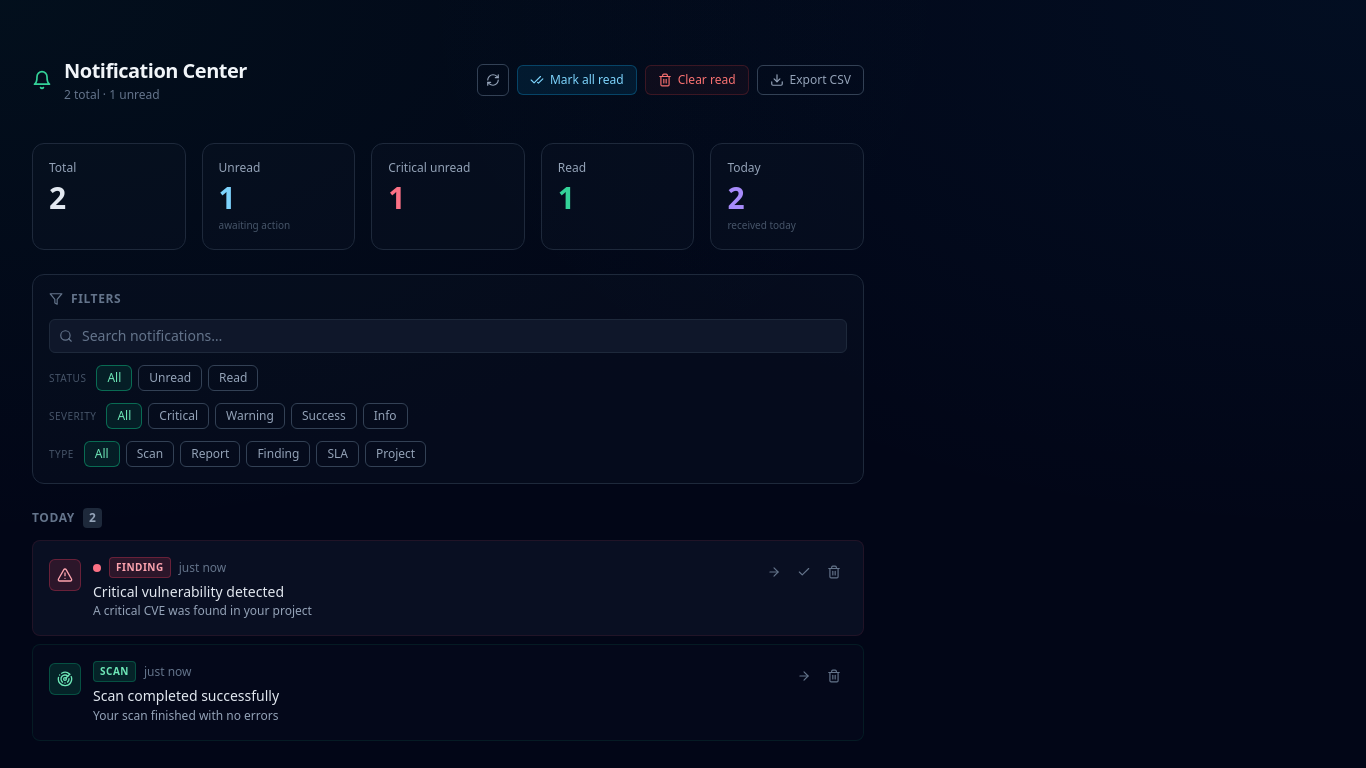
Test case: Notifications — severity filter › "success" severity filter hides non-success notifications
expect the text "Critical vulnerability detected" is shown: met, box x1=93 y1=582 x2=284 y2=601
Click the button "success".
click(324, 416)  # box x1=291 y1=403 x2=357 y2=429
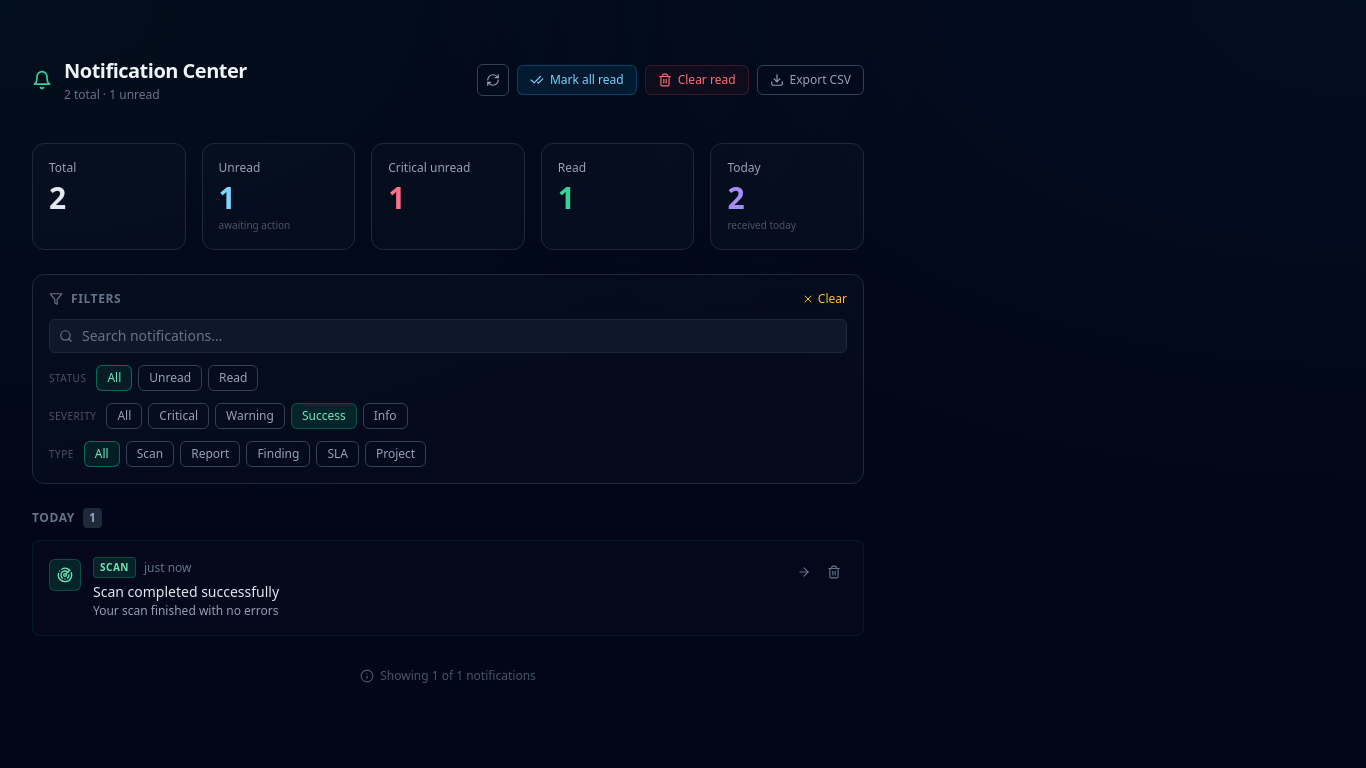
expect the text "Scan completed successfully" is shown: met, box x1=93 y1=582 x2=279 y2=601
expect the text "Critical vulnerability detected" is gone: met
